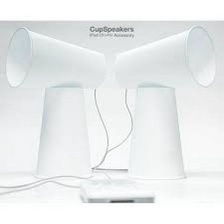paper_cup: (109, 21, 220, 94), (0, 22, 109, 94), (29, 81, 98, 183), (122, 81, 189, 183)
